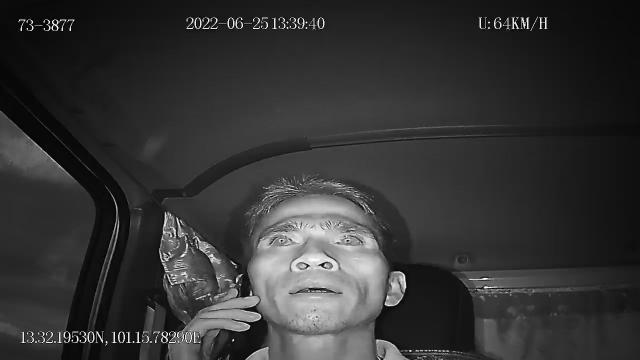PhoneUse: (212, 270, 250, 360)
SafeDriving: (328, 226, 370, 251), (264, 226, 302, 250)
